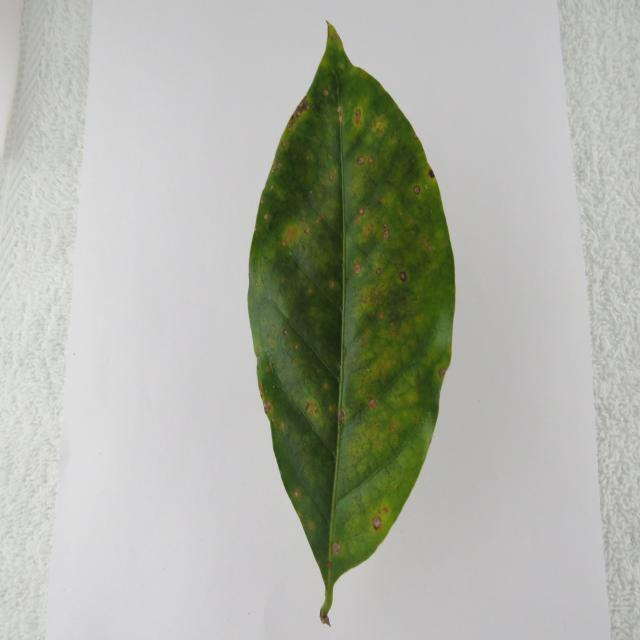DeficienciaNutricional-Hierro: (248, 23, 455, 623)
